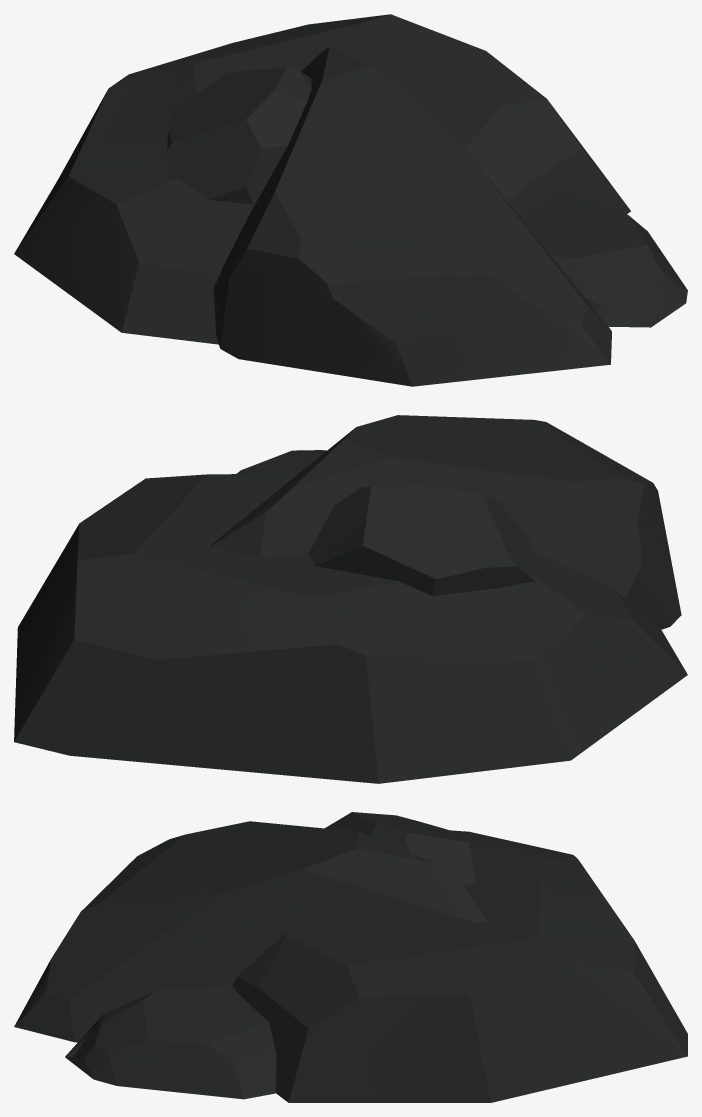
Rendered from Rocks_3.fbx.
3 views of the same model, one above another, from view 1: azimuth 30°, elevation 25°; view 2: azimuth 150°, elevation 25°; view 3: azimuth 270°, elevation 25° (orthographic). The views are drawn at different scales.
Parts seen in each view (by area): view 1: Rocks_3; view 2: Rocks_3; view 3: Rocks_3.
Part boxes in pixels (bbox=[...]): Rocks_3: bbox=[14, 14, 687, 386]; Rocks_3: bbox=[14, 415, 687, 783]; Rocks_3: bbox=[14, 812, 687, 1102].
Size of the model in its own units: 73.78 by 24.01 by 94.11.
